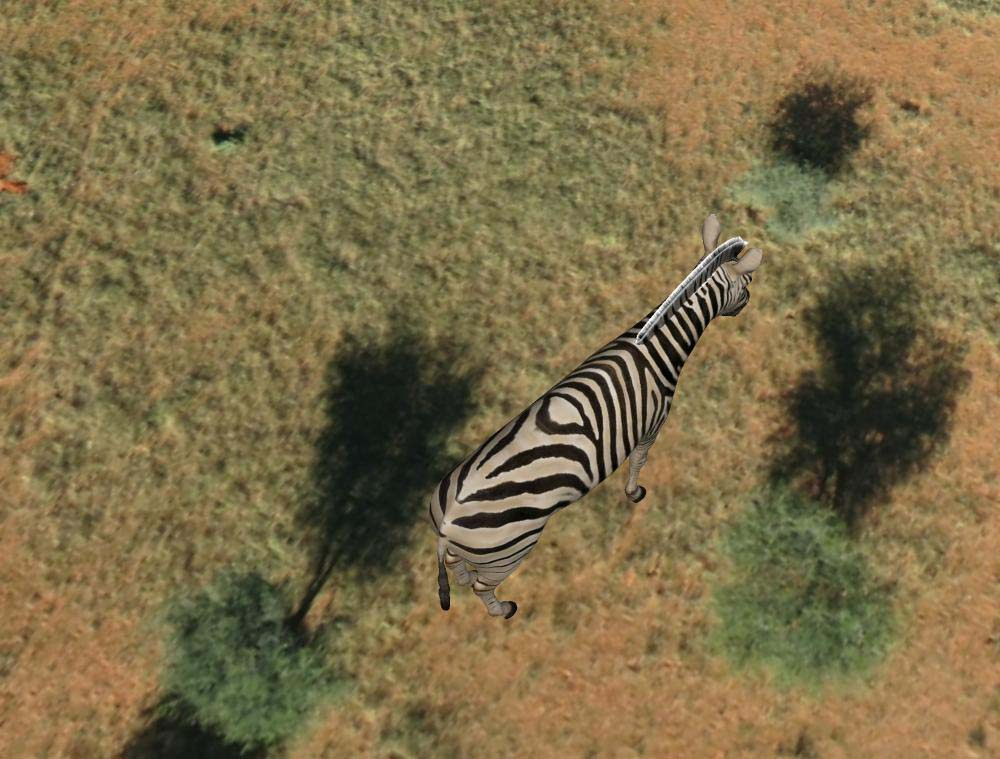zebra: (428, 221, 759, 621)
